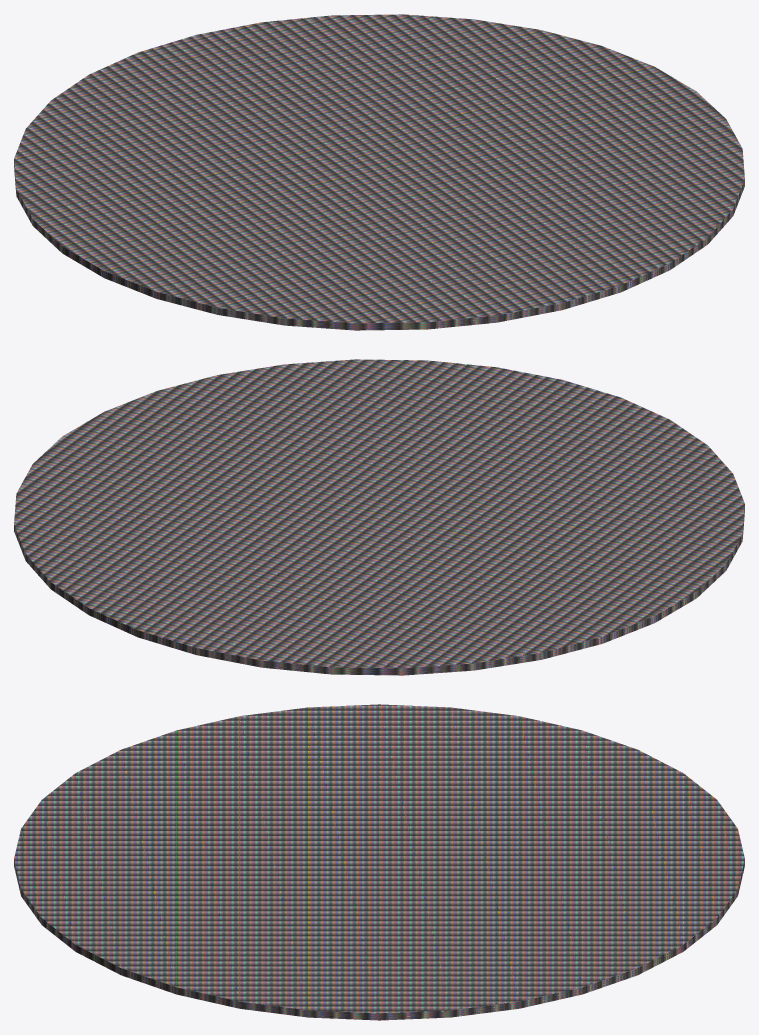
File: rug-circle.gltf
The picture shows the model from 3 angles, top to bottom: view 1: azimuth 30°, elevation 25°; view 2: azimuth 150°, elevation 25°; view 3: azimuth 270°, elevation 25°; orthographic projection.
Visible parts, largest first — view 1: rug circle; view 2: rug circle; view 3: rug circle.
Boxes of the visible parts, bbox=[...] form: rug circle: bbox=[14, 14, 744, 330]; rug circle: bbox=[14, 359, 744, 675]; rug circle: bbox=[14, 704, 744, 1020].
Bounding box in the file's own units: 13.33 × 0.1446 × 13.33.
Materials: 1 (1 with a texture image).
